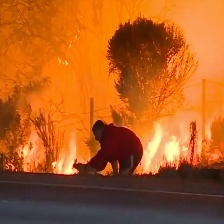fire: (142, 127, 186, 170), (49, 143, 81, 174)
smoke: (19, 3, 218, 111)
